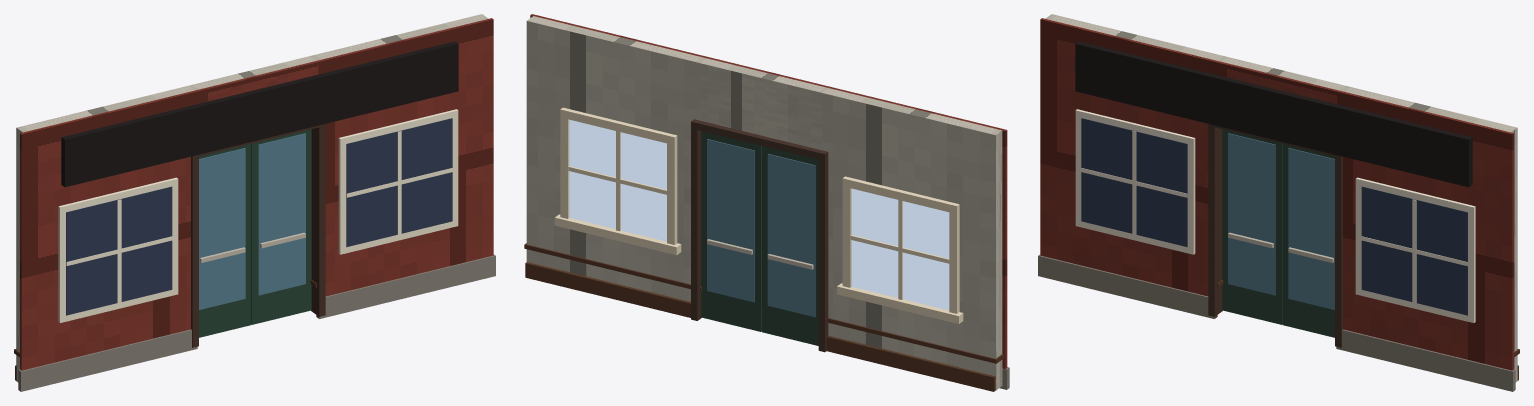
The model's file is front.glb.
3 views of the same model, side by side, from view 1: azimuth 30°, elevation 25°; view 2: azimuth 150°, elevation 25°; view 3: azimuth 330°, elevation 25° (orthographic).
Visible parts, largest first — view 1: Box44, Box6, Box8, Box34, Box23, Box19, Box15, Box18, Box7, Box9, Box33, Box22 (+11 smaller); view 2: Box1, Box3, Box30, Box41, Box5, Box15, Box19, Box18, Box14, Box2, Box4, Box11 (+20 smaller); view 3: Box44, Box8, Box6, Box23, Box34, Box15, Box19, Box14, Box9, Box7, Box22, Box33 (+11 smaller).
Part boxes in pixels (x1,y1,x2,y2): Box44: (61, 41, 458, 187); Box6: (20, 90, 196, 370); Box8: (316, 18, 493, 317); Box34: (346, 118, 452, 247); Box23: (66, 186, 172, 315); Box19: (258, 133, 305, 295); Box15: (199, 148, 245, 309); Box18: (251, 129, 311, 324); Box7: (18, 329, 197, 391); Box9: (318, 254, 495, 318); Box33: (338, 109, 458, 254); Box22: (58, 177, 178, 322); Box1: (822, 88, 1002, 390); Box3: (526, 16, 706, 301); Box30: (851, 188, 949, 310); Box41: (569, 119, 666, 241); Box5: (700, 58, 828, 150); Box15: (767, 154, 815, 317); Box19: (707, 139, 754, 302); Box18: (701, 131, 761, 331); Box14: (762, 146, 818, 345); Box2: (826, 335, 995, 391); Box4: (525, 262, 690, 317); Box11: (818, 150, 828, 352); Box44: (1075, 41, 1472, 187); Box8: (1337, 90, 1513, 370); Box6: (1040, 18, 1217, 317); Box23: (1081, 118, 1187, 247); Box34: (1361, 186, 1467, 315); Box15: (1228, 133, 1275, 295); Box19: (1288, 148, 1334, 309); Box14: (1222, 129, 1282, 324); Box9: (1336, 329, 1515, 391); Box7: (1038, 254, 1215, 318); Box22: (1075, 109, 1195, 254); Box33: (1355, 177, 1475, 322).
Size of the model in its own units: 6.27 by 3.24 by 0.385.
Materials: 13 (2 with a texture image).
